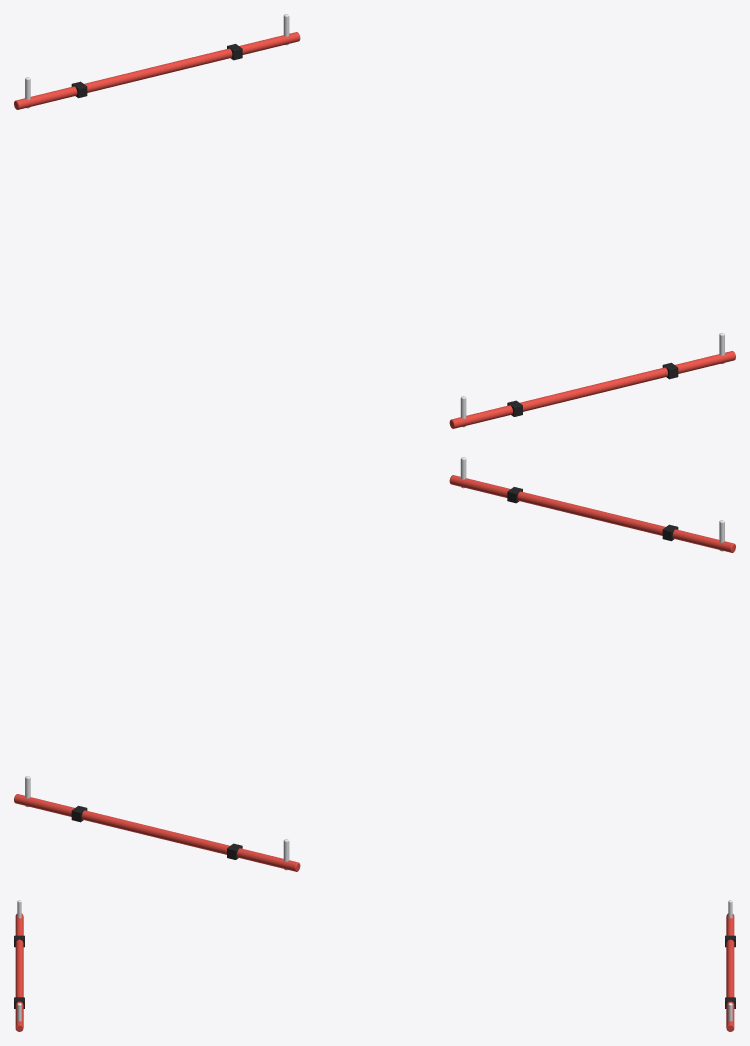
Rendered from antiroll_bars.glb.
3 views of the same model, one above another, from view 1: azimuth 30°, elevation 25°; view 2: azimuth 150°, elevation 25°; view 3: azimuth 270°, elevation 25° (orthographic). The views are drawn at different scales.
Parts seen in each view (by area): view 1: SWAYBAR_FRONT, SWAYBAR_REAR; view 2: SWAYBAR_REAR, SWAYBAR_FRONT; view 3: SWAYBAR_FRONT, SWAYBAR_REAR.
Part boxes in pixels (box(x1,y1,x2,y2)): SWAYBAR_FRONT: box(14, 32, 300, 109); SWAYBAR_REAR: box(449, 351, 735, 428); SWAYBAR_REAR: box(449, 475, 735, 552); SWAYBAR_FRONT: box(14, 794, 300, 871); SWAYBAR_FRONT: box(726, 913, 734, 1031); SWAYBAR_REAR: box(15, 913, 23, 1031).
Bounding box in the file's own units: 1.2 × 0.12 × 3.26.
